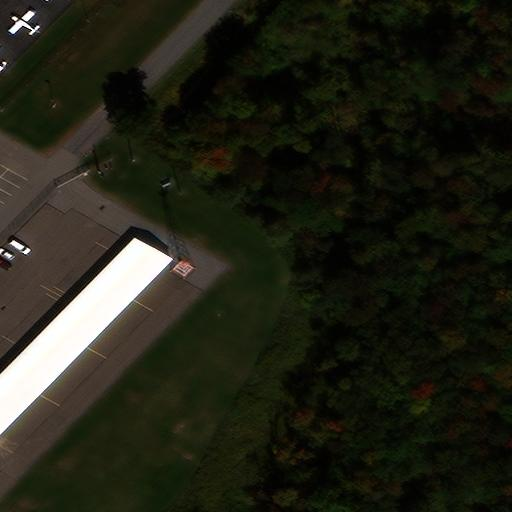Small Civil Transport: (7, 9, 40, 33)
